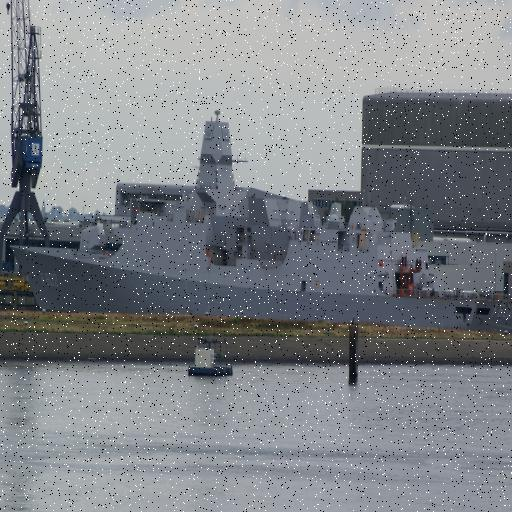Fragata: (8, 126, 512, 325)
